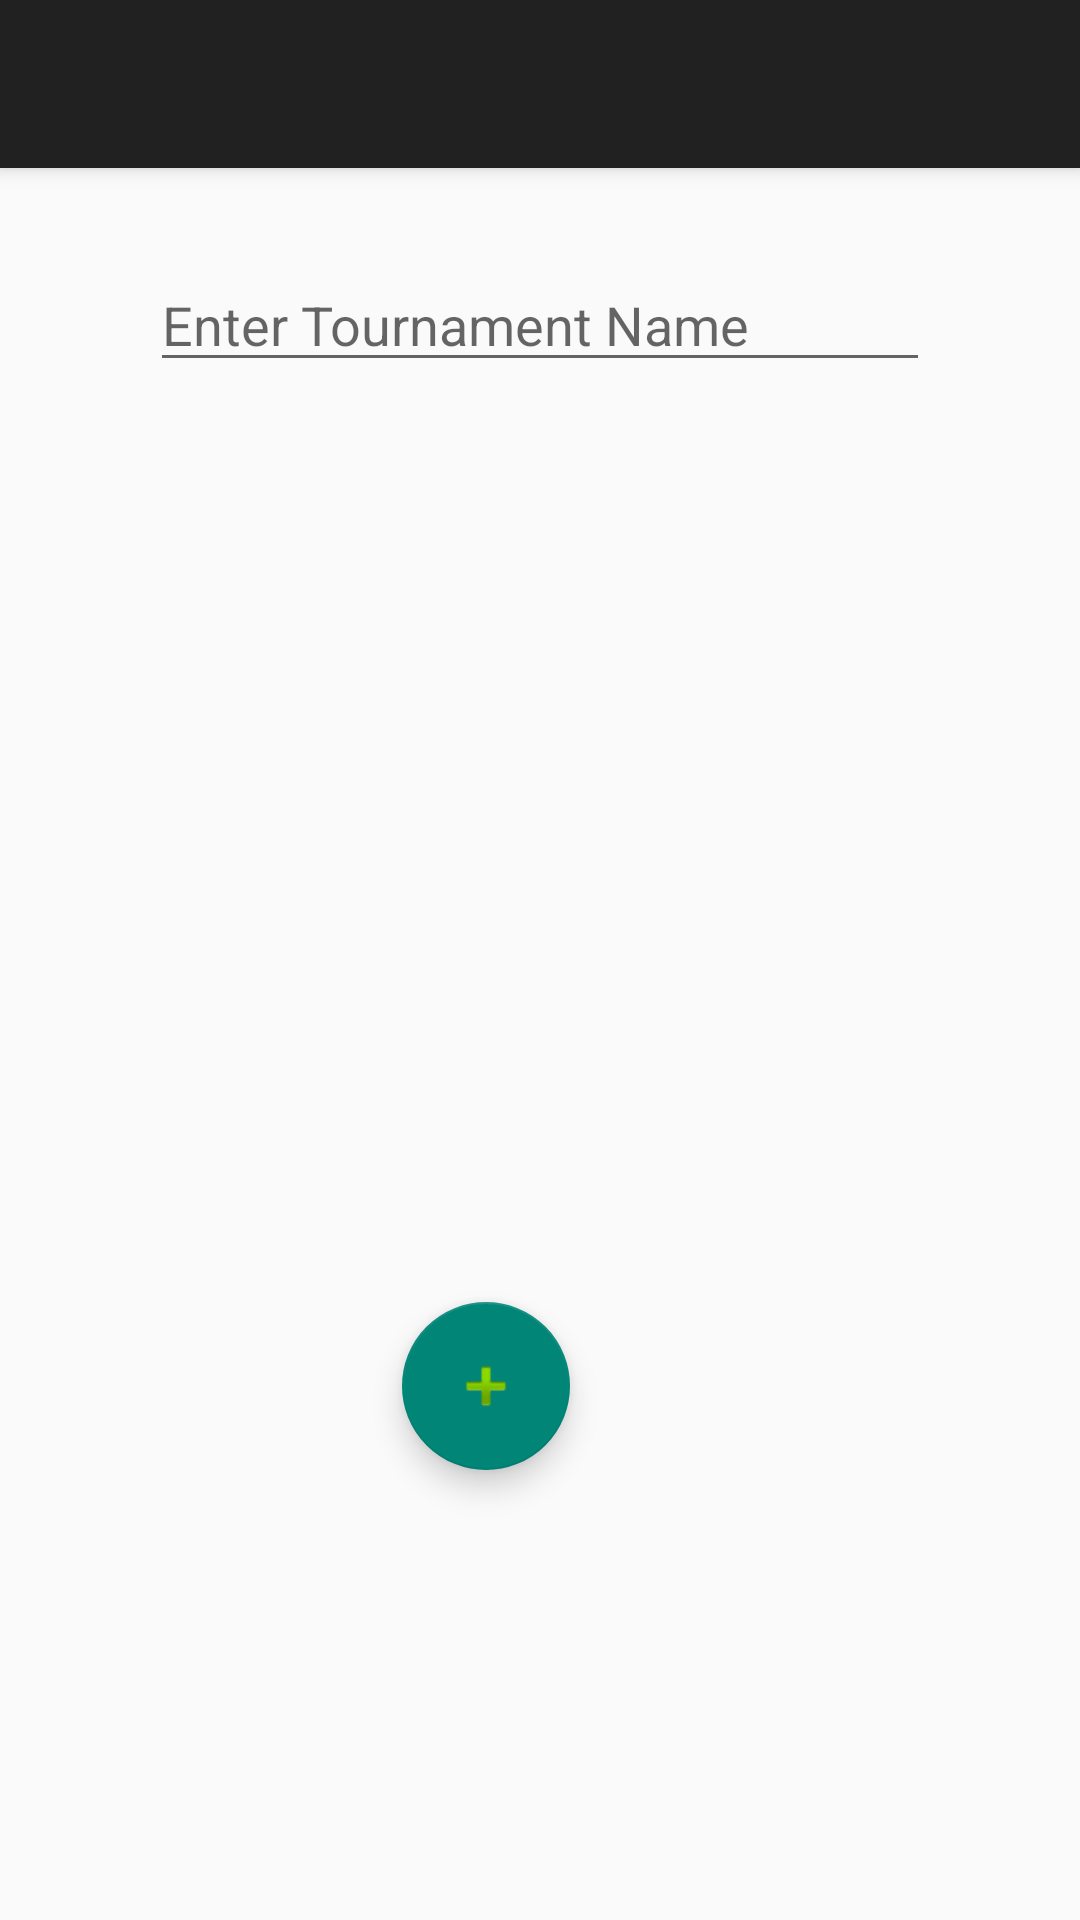

Locate icon controls on the screen. Image size 1080 × 1920, boxes as (x1, y1, x2, y2).
add: (402, 1302, 570, 1470)
